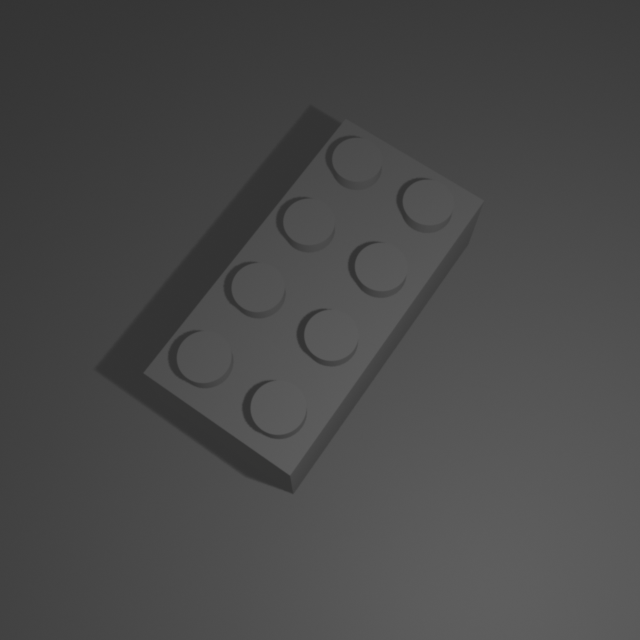lego_2x4: (140, 110, 487, 494)
